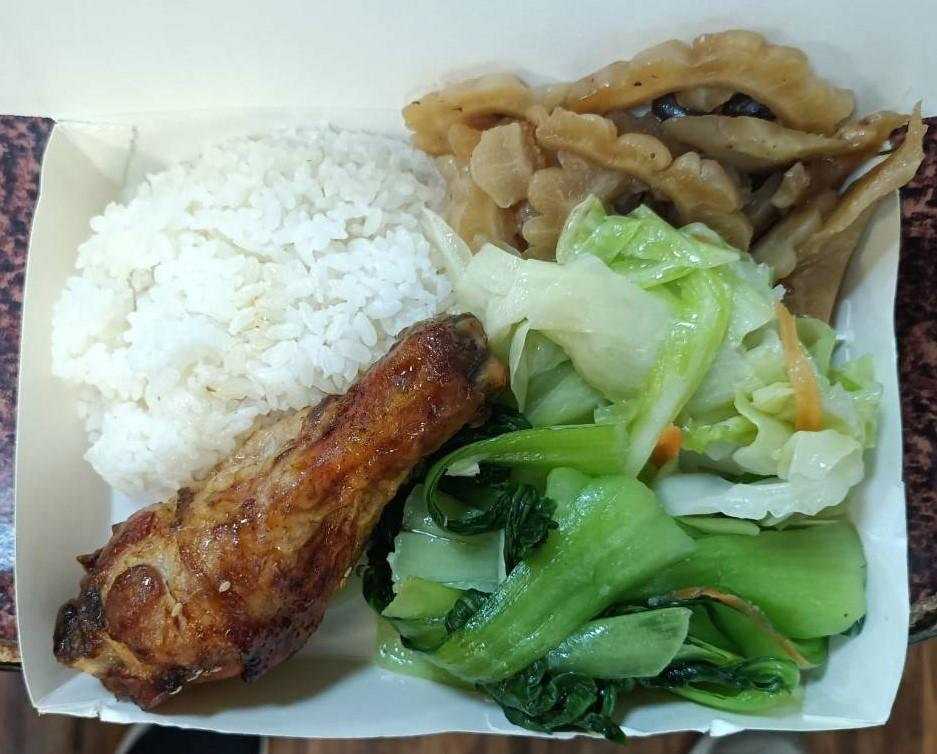big grilled chicken leg: (10, 85, 915, 738)
big herbal chicken leg: (55, 127, 447, 497)
braised fish fillet: (375, 425, 875, 725), (394, 32, 924, 273), (462, 212, 885, 461)
braised pork: (59, 310, 510, 714)
